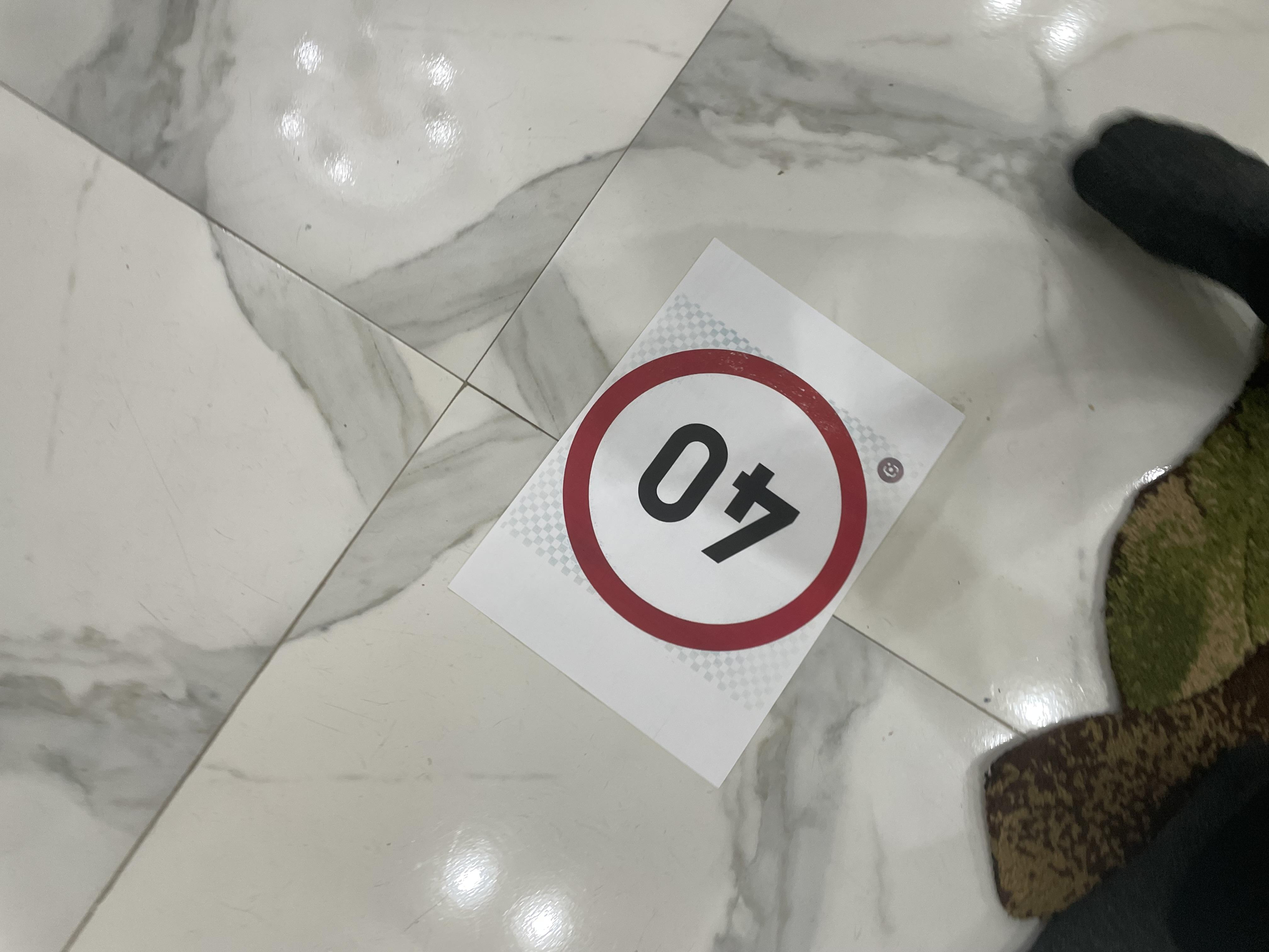40-Speed: (462, 305, 875, 530)
